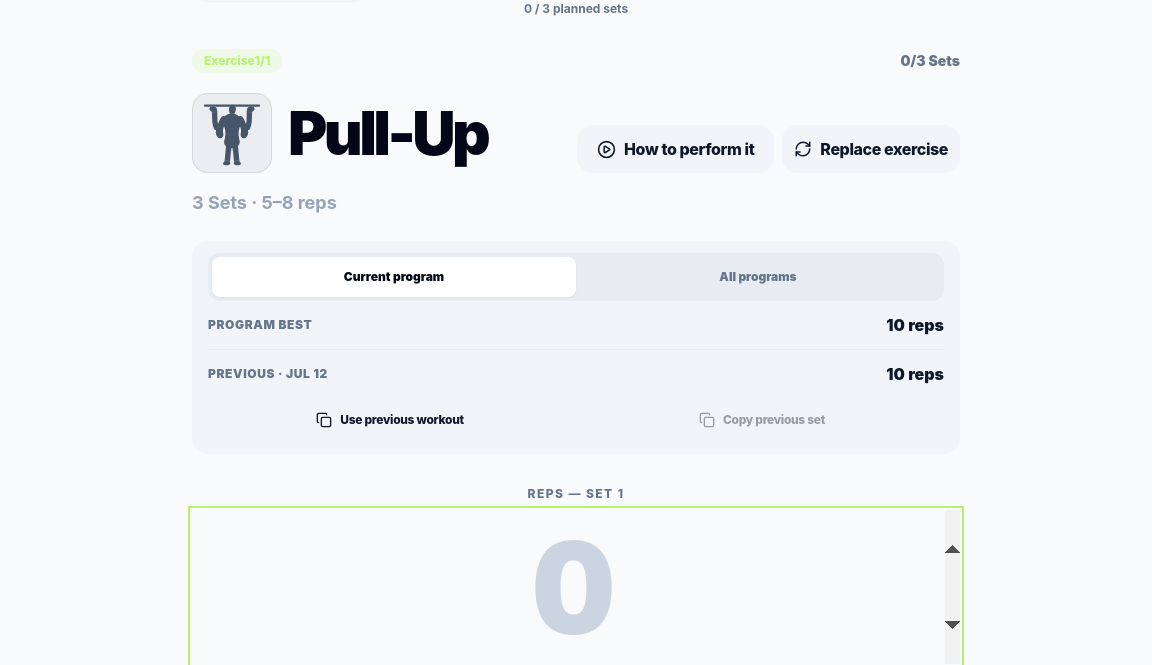
Scenario: active workout previous performance and replacement UX › shows matching previous repetitions and copies without completing
(page scrolled)
Expected: the text "10 reps" is shown 2 times, 886,315 -> 944,335; 886,364 -> 944,384
Click the button "Use previous workout": [390, 420] box 208,398 -> 572,442
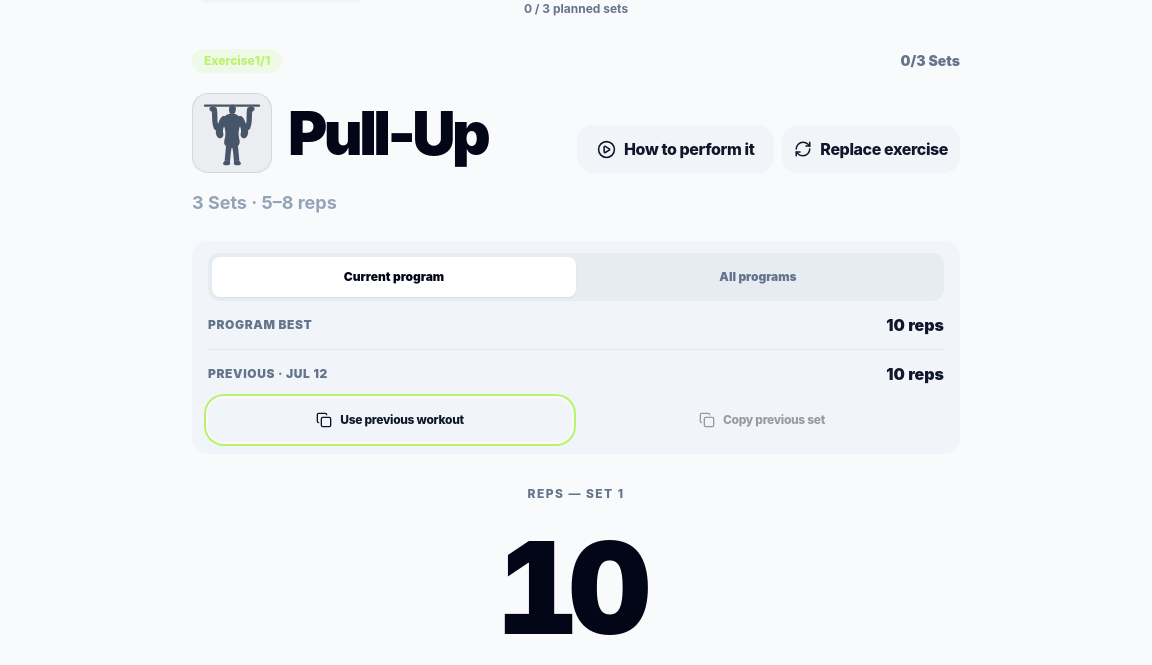
Expected: the number field labelled "reps — Set 1" holds "10", 192,510 -> 960,664
